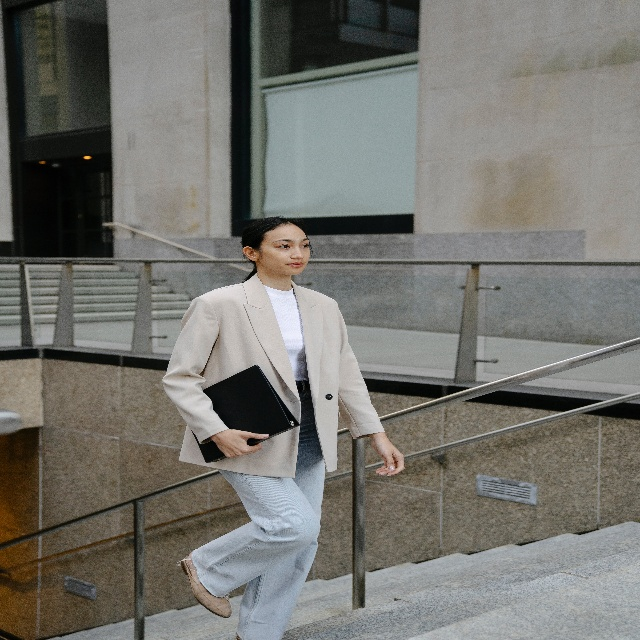Sin_guantes: (212, 425, 269, 459), (371, 435, 405, 476)
